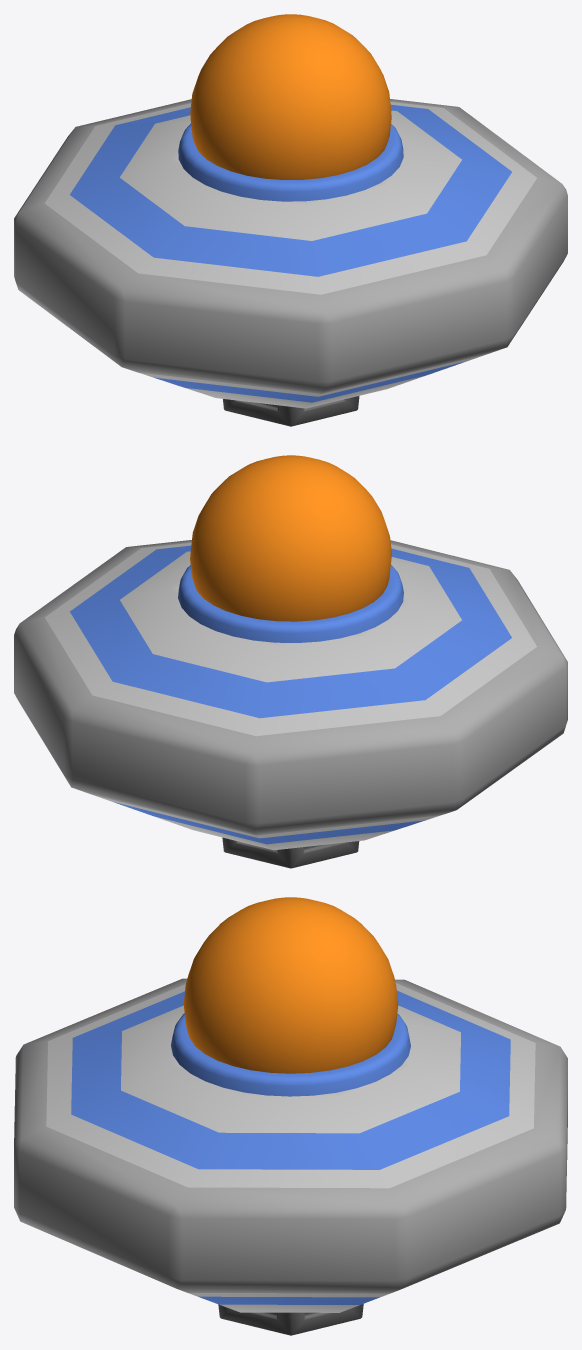
Rendered from ufo.fbx.
The picture shows the model from 3 angles, top to bottom: view 1: azimuth 30°, elevation 25°; view 2: azimuth 150°, elevation 25°; view 3: azimuth 270°, elevation 25°; orthographic projection. The views are drawn at different scales.
Parts seen in each view (by area): view 1: Цилиндр.075, Сфера.008, Цилиндр.121, Цилиндр.071; view 2: Цилиндр.075, Сфера.008, Цилиндр.121, Цилиндр.071; view 3: Цилиндр.075, Сфера.008, Цилиндр.121, Цилиндр.071.
Boxes of the visible parts, <box> form: Цилиндр.075: <box>14,99,567,408</box>; Сфера.008: <box>190,14,391,179</box>; Цилиндр.121: <box>178,123,403,201</box>; Цилиндр.071: <box>223,396,359,426</box>; Цилиндр.075: <box>14,540,567,850</box>; Сфера.008: <box>190,455,391,621</box>; Цилиндр.121: <box>178,564,403,642</box>; Цилиндр.071: <box>222,837,359,868</box>; Цилиндр.075: <box>14,978,567,1312</box>; Сфера.008: <box>183,897,398,1073</box>; Цилиндр.121: <box>171,1013,410,1096</box>; Цилиндр.071: <box>218,1304,363,1335</box>.
Size of the model in its own units: 677 by 532 by 677.
